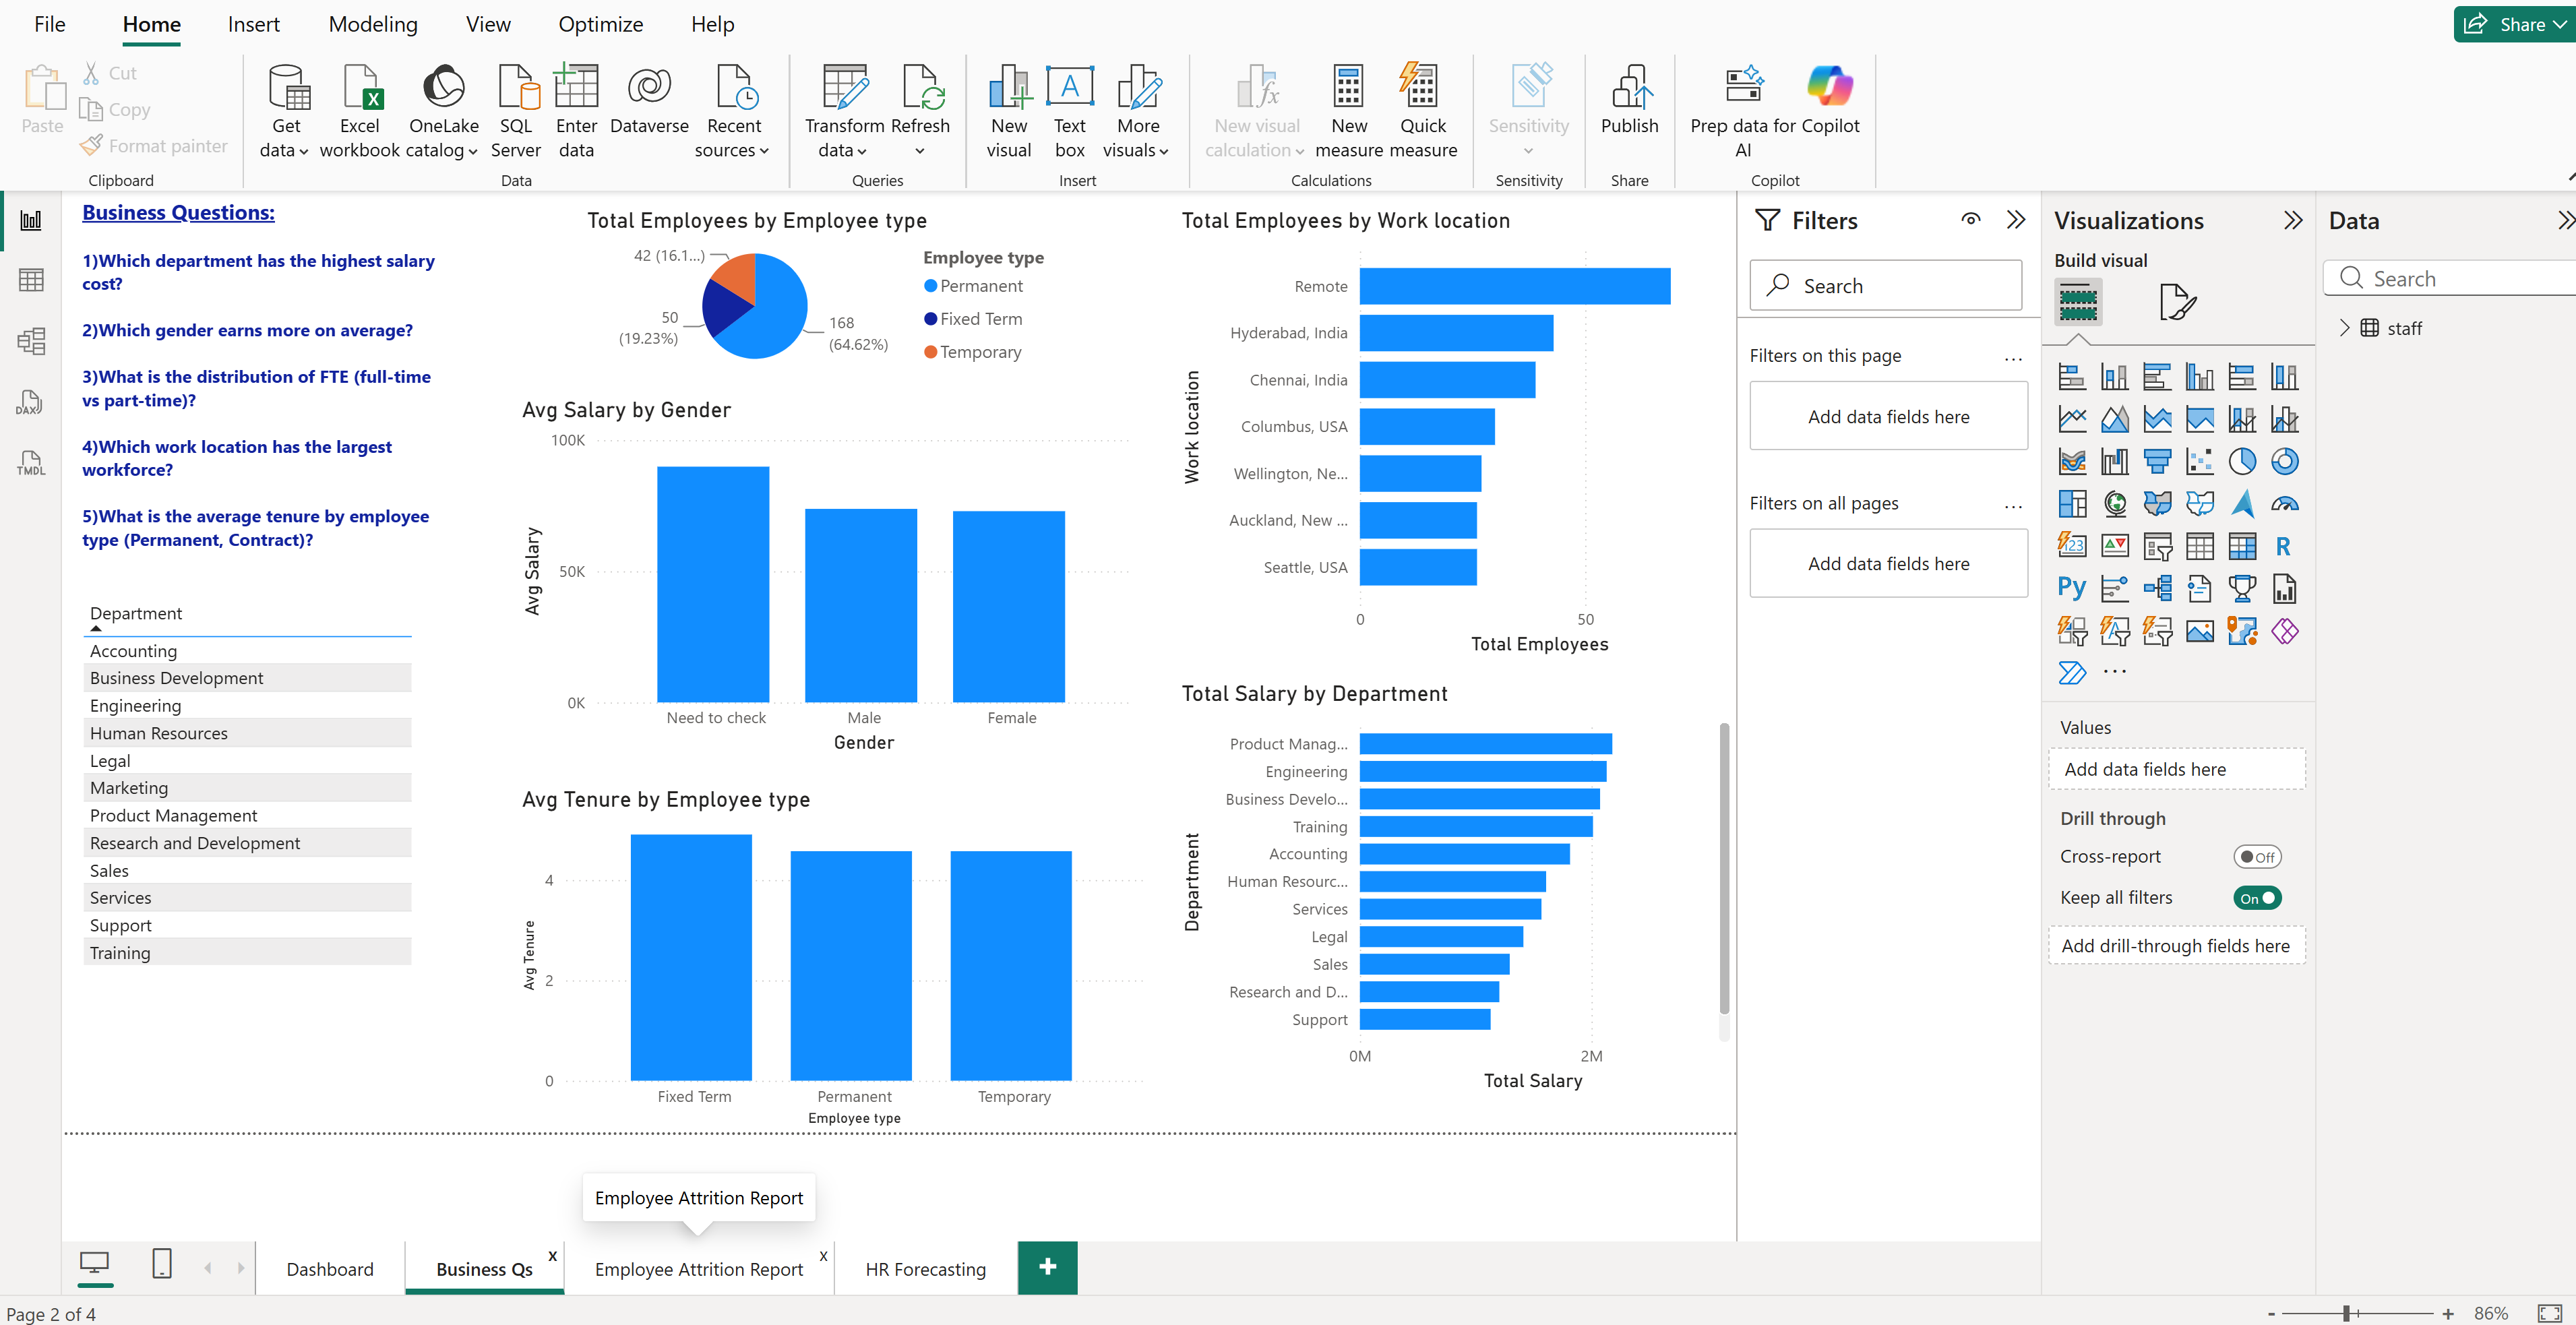

This screenshot's page, from the dashboard's own definition file:
{"tool":"powerbi","page":{"name":"Business Qs","canvas":[1280,720],"ordinal":1},"visuals":[{"type":"textbox","box":[10,0,280,280],"z":0},{"type":"barChart","fields":{"Y":["staff.Total Salary"],"Category":["staff.Department"]},"box":[851.4,374.6,429.2,319],"z":1000},{"type":"columnChart","fields":{"Category":["staff.Gender"],"Y":["staff.Avg Salary"]},"box":[346.8,157.7,475.6,277.2],"z":2000},{"type":"tableEx","fields":{"Values":["staff.Department"]},"box":[10.4,307.4,262.1,358.4],"z":3000},{"type":"pieChart","fields":{"Category":["staff.Employee type"],"Y":["staff.Total Employees"]},"box":[396.7,12.8,377,132.2],"z":4000},{"type":"barChart","fields":{"Y":["staff.Total Employees"],"Category":["staff.Work location"]},"box":[851.4,12.8,429.2,346.8],"z":5000},{"type":"columnChart","fields":{"Y":["staff.Avg Tenure"],"Category":["staff.Employee type"]},"box":[346.8,455.8,484.8,264.5],"z":6000}]}

Visuals, with their boxes on the page's 1280x720 design canvas (x1, y1, x2, y2). These are canvas units, not pixel positions in the 2576x1325 screenshot, which may show the page scaled, cropped or inside an application window:
textbox: <box>10,0,290,280</box>
barChart - staff.Total Salary x staff.Department: <box>851,375,1281,694</box>
columnChart - staff.Gender x staff.Avg Salary: <box>347,158,822,435</box>
tableEx - staff.Department: <box>10,307,272,666</box>
pieChart - staff.Employee type x staff.Total Employees: <box>397,13,774,145</box>
barChart - staff.Total Employees x staff.Work location: <box>851,13,1281,360</box>
columnChart - staff.Avg Tenure x staff.Employee type: <box>347,456,832,720</box>
